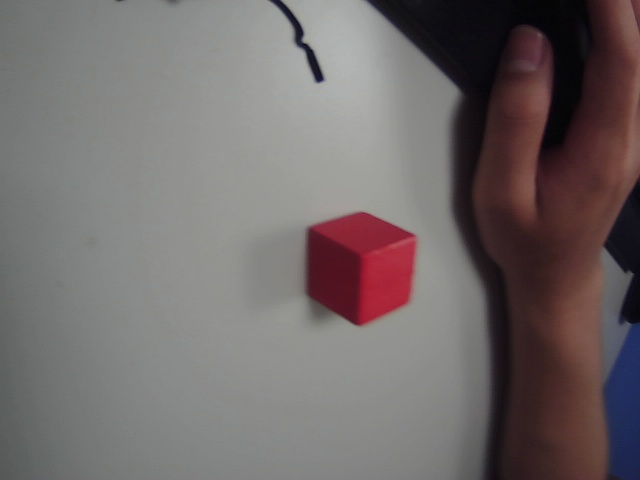redbox: (297, 205, 445, 344)
